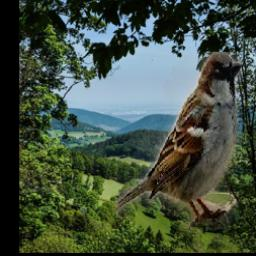Sparrow: (116, 53, 243, 230)
